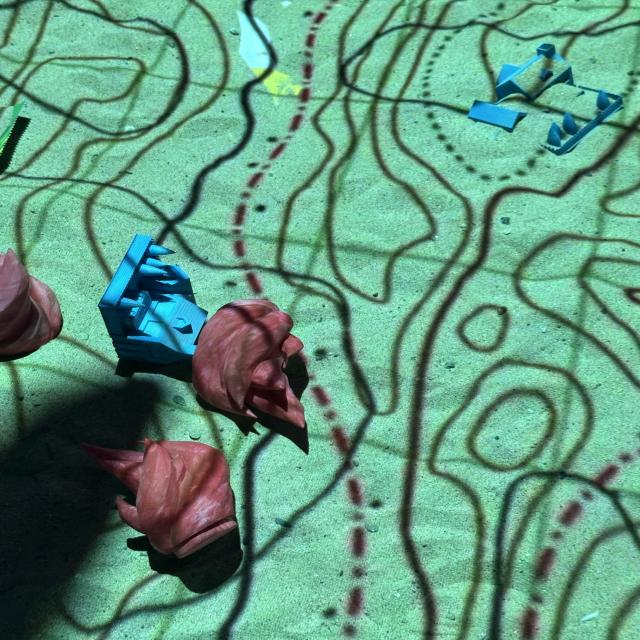fire: (84, 435, 241, 562), (195, 296, 311, 428), (0, 249, 66, 363)
house: (466, 42, 623, 154), (97, 232, 209, 366)
